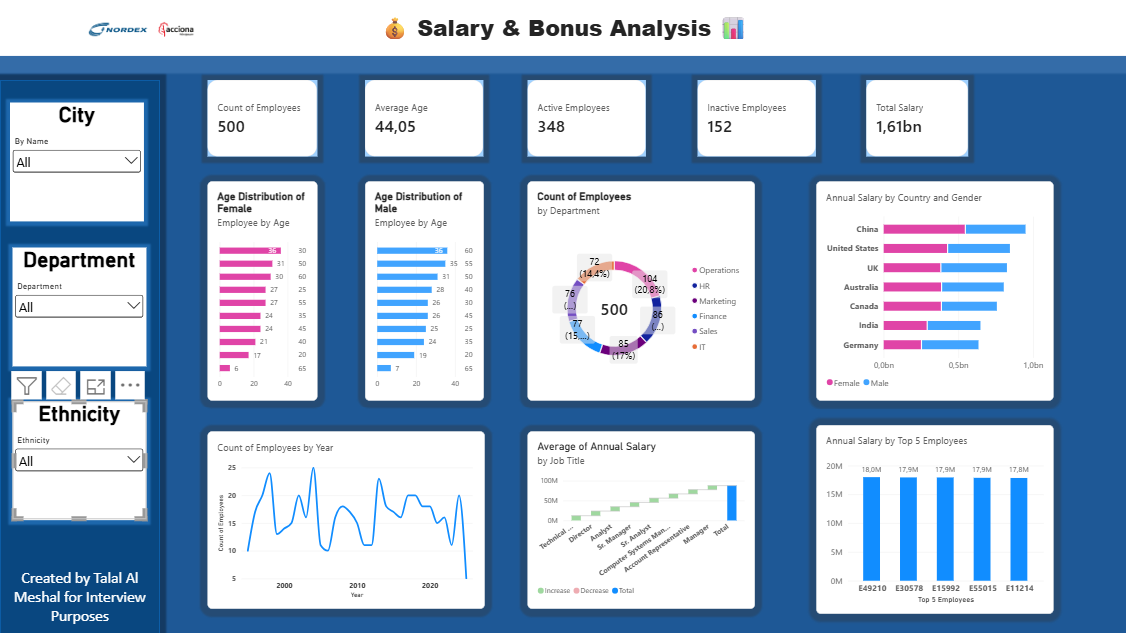

The dashboard page shown, as its layout file describes it:
{"tool":"powerbi","page":{"name":"Page 1","canvas":[1920,1080],"ordinal":0},"visuals":[{"type":"textbox","box":[0,0,1920.6,95.2],"z":0},{"type":"image","box":[63.5,17.5,360.3,65.1],"z":1000},{"type":"cardVisual","fields":{"Data":["CountNonNull(employee_data.EEID)"]},"box":[352.2,137,187,130.4],"z":2000},{"type":"cardVisual","fields":{"Data":["Avg(employee_data.Age)"]},"box":[621.7,137,201.6,130.2],"z":3000},{"type":"cardVisual","fields":{"Data":["CountNonNull(employee_data.Employee Status)"]},"box":[897.8,137,201.6,130.2],"z":4000},{"type":"cardVisual","fields":{"Data":["CountNonNull(employee_data.Employee Status)"]},"box":[1187,137,201.6,130.2],"z":5000},{"type":"cardVisual","fields":{"Data":["Sum(employee_data.Annual Salary)"]},"box":[1473.9,137,173.9,130.4],"z":6000},{"type":"barChart","title":"Age Distribution of Female","fields":{"Y":["CountNonNull(employee_data.EEID)"],"Category":["employee_data.Age (bins)"]},"box":[352.2,308.7,187,373.9],"z":7000},{"type":"barChart","title":"Age Distribution of Male","fields":{"Y":["CountNonNull(employee_data.EEID)"],"Category":["employee_data.Age (bins)"]},"box":[621.7,308.7,202.2,373.9],"z":8000},{"type":"donutChart","fields":{"Category":["employee_data.Department"],"Y":["CountNonNull(employee_data.EEID)"]},"box":[897.8,308.7,387,373.9],"z":9000},{"type":"shape","box":[0,137,271.7,943.5],"z":10000},{"type":"textbox","title":"Created by Talal Al Meshal for Interview Purposes","box":[0,966,271.7,113],"z":11000},{"type":"barChart","fields":{"Category":["employee_data.Country"],"Y":["Sum(employee_data.Annual Salary)"],"Series":["employee_data.Gender"]},"box":[1389.1,308.7,404.3,373.9],"z":12000},{"type":"lineChart","fields":{"Category":["employee_data.Hire Date.Variation.Date Hierarchy.Year","employee_data.Hire Date.Variation.Date Hierarchy.Quarter","employee_data.Hire Date.Variation.Date Hierarchy.Month","employee_data.Hire Date.Variation.Date Hierarchy.Day"],"Y":["CountNonNull(employee_data.EEID)"]},"box":[352.2,734.8,471.7,302.2],"z":13000},{"type":"waterfallChart","fields":{"Category":["employee_data.Job Title"],"Y":["Avg(employee_data.Annual Salary)"]},"box":[898,735,387,302],"z":14000},{"type":"clusteredColumnChart","fields":{"Y":["Sum(employee_data.Annual Salary)"],"Category":["employee_data.EEID"]},"box":[1389.4,723.4,404.3,321.3],"z":15000},{"type":"slicer","title":"City","fields":{"Values":["employee_data.City"]},"box":[17,174.5,227.7,202.1],"z":16000},{"type":"slicer","title":"Department","fields":{"Values":["employee_data.Department"]},"box":[21.3,421.3,227.7,202.1],"z":16001},{"type":"slicer","title":"Ethnicity","fields":{"Values":["employee_data.Ethnicity"]},"box":[21.3,683,227.7,202.1],"z":16002}]}

Visuals, with their boxes in screenshot pixels (x1, y1, x2, y2), scaled from the page's 1920x1080 canvas onto the 1126x633 screenshot:
textbox: 0,0,1125,56
image: 37,10,249,48
cardVisual - CountNonNull(employee_data.EEID): 207,80,316,157
cardVisual - Avg(employee_data.Age): 365,80,483,157
cardVisual - CountNonNull(employee_data.Employee Status): 527,80,645,157
cardVisual - CountNonNull(employee_data.Employee Status): 696,80,814,157
cardVisual - Sum(employee_data.Annual Salary): 864,80,966,157
"Age Distribution of Female" barChart: 207,181,316,400
"Age Distribution of Male" barChart: 365,181,483,400
donutChart - employee_data.Department x CountNonNull(employee_data.EEID): 527,181,753,400
shape: 0,80,159,632
"Created by Talal Al Meshal for Interview Purposes" textbox: 0,566,159,632
barChart - employee_data.Country x Sum(employee_data.Annual Salary): 815,181,1052,400
lineChart - employee_data.Hire Date.Variation.Date Hierarchy.Year x employee_data.Hire Date.Variation.Date Hierarchy.Quarter: 207,431,483,608
waterfallChart - employee_data.Job Title x Avg(employee_data.Annual Salary): 527,431,754,608
clusteredColumnChart - Sum(employee_data.Annual Salary) x employee_data.EEID: 815,424,1052,612
"City" slicer: 10,102,144,221
"Department" slicer: 12,247,146,365
"Ethnicity" slicer: 12,400,146,519
